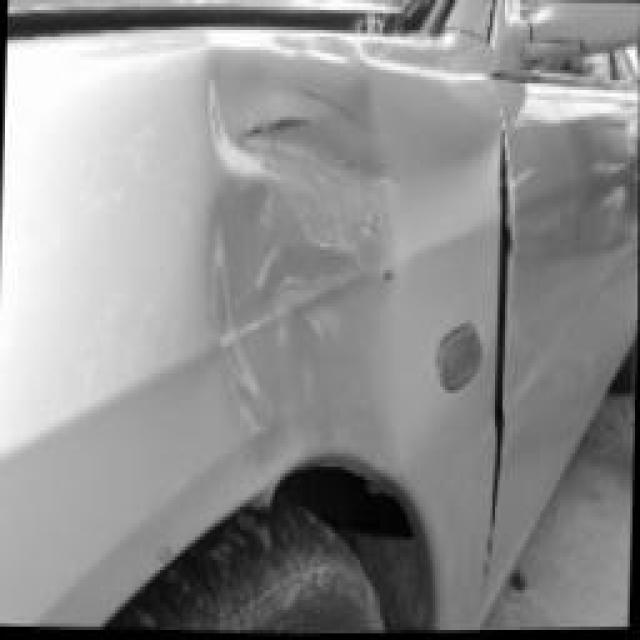Fender: (108, 23, 485, 506)
